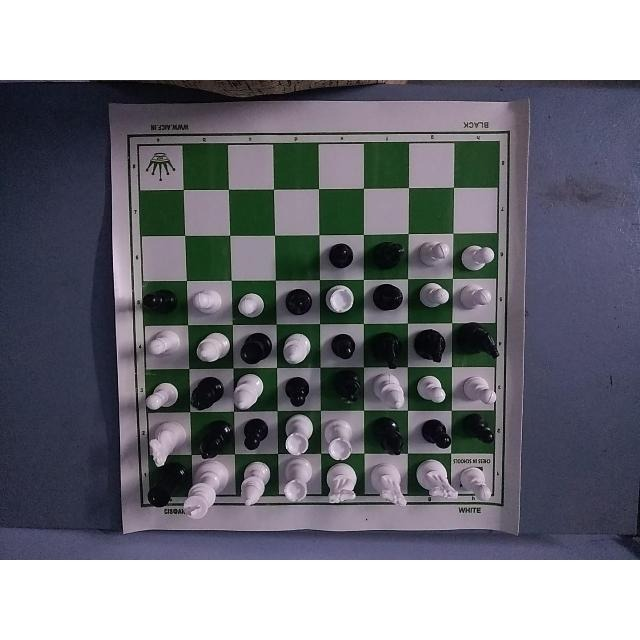black-bishop: (190, 419, 234, 460), (322, 366, 363, 408), (367, 417, 407, 459), (369, 279, 409, 321), (188, 373, 227, 412), (275, 286, 315, 323), (366, 238, 407, 272)
black-knight: (456, 322, 496, 364), (366, 329, 405, 369), (412, 326, 448, 361)
black-pawn: (140, 285, 176, 321), (324, 237, 359, 273), (417, 416, 453, 451), (461, 415, 494, 449), (326, 329, 360, 361), (240, 418, 270, 451), (281, 378, 313, 408)
black-rook: (145, 465, 187, 509), (238, 330, 269, 364)
white-bishop: (234, 463, 274, 509), (369, 368, 411, 411), (189, 327, 229, 366), (279, 325, 315, 362), (234, 373, 266, 411)
white-king: (185, 465, 226, 524)
white-knight: (367, 461, 412, 519), (321, 461, 363, 509), (416, 458, 457, 505), (142, 415, 183, 462)
white-pawn: (136, 331, 183, 367), (457, 232, 496, 272), (190, 280, 228, 317), (413, 234, 452, 270), (417, 276, 449, 318), (234, 285, 269, 323), (140, 377, 178, 410), (415, 370, 453, 402), (459, 284, 498, 311), (466, 371, 494, 405)
white-rook: (324, 409, 362, 458), (278, 458, 320, 502), (324, 277, 360, 323), (281, 411, 318, 455), (463, 463, 495, 507)
